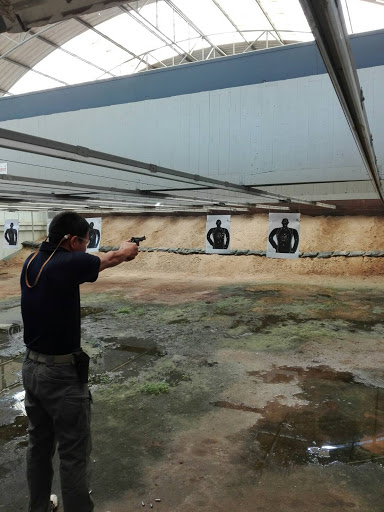gun: (124, 233, 152, 251)
